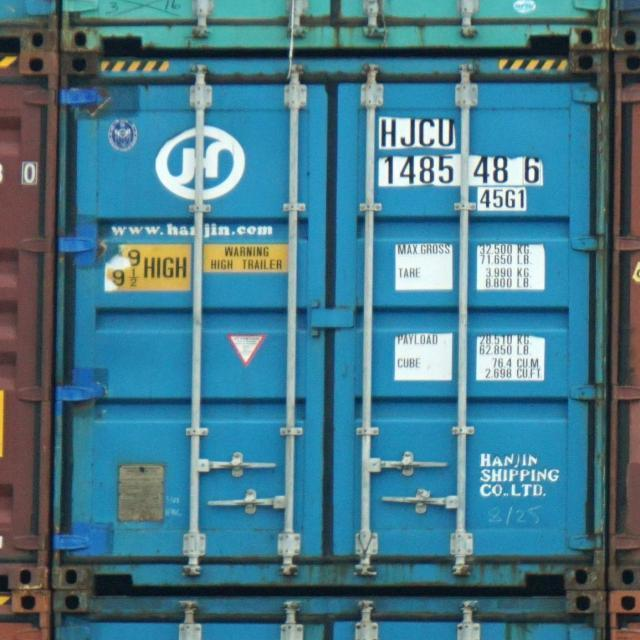ISO: (480, 188, 526, 212)
container_number: (376, 116, 542, 182)
